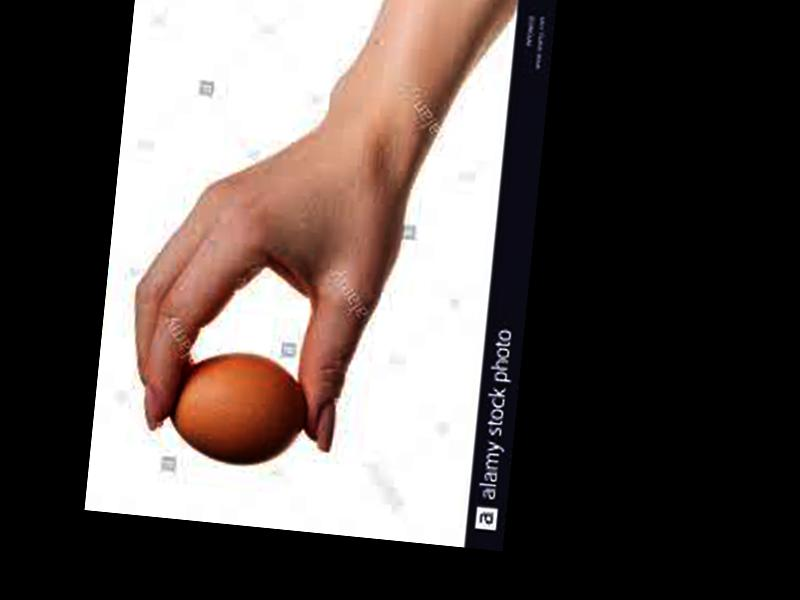Eggs: (166, 342, 311, 471)
